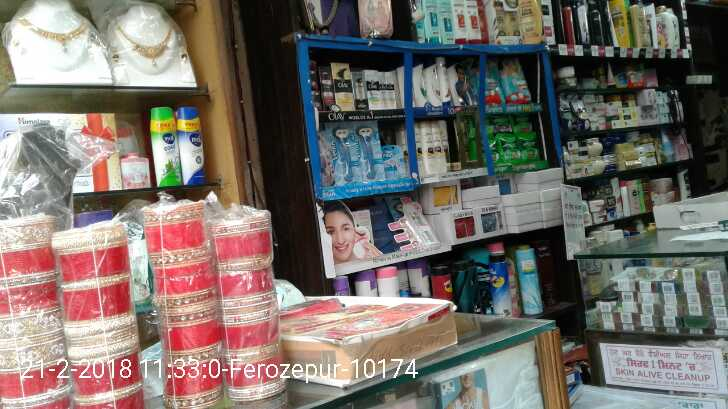venus: (355, 123, 383, 179), (335, 123, 355, 185), (383, 143, 404, 179)
